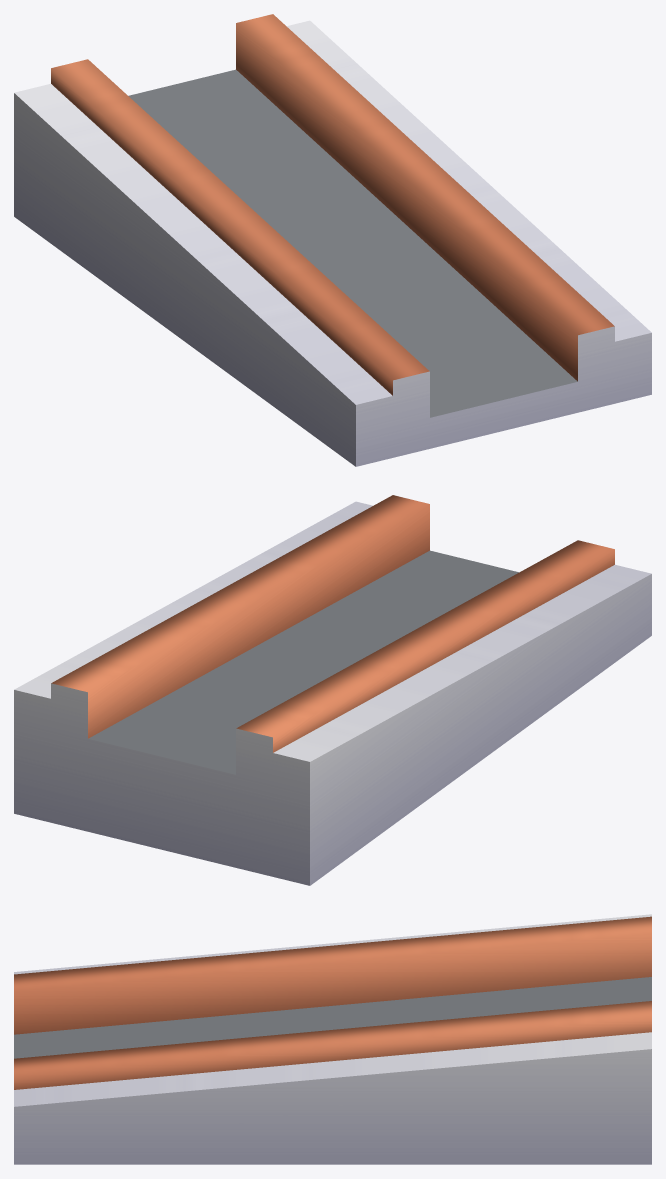
Rendered from snow-tile-river-slope-large.gltf.
The picture shows the model from 3 angles, top to bottom: view 1: azimuth 30°, elevation 25°; view 2: azimuth 150°, elevation 25°; view 3: azimuth 270°, elevation 25°; orthographic projection. The views are drawn at different scales.
Parts seen in each view (by area): view 1: snow-tile-river-slope-large; view 2: snow-tile-river-slope-large; view 3: snow-tile-river-slope-large.
Boxes of the visible parts, x1=… form: snow-tile-river-slope-large: x1=14, y1=14, x2=651, y2=466; snow-tile-river-slope-large: x1=14, y1=495, x2=651, y2=885; snow-tile-river-slope-large: x1=14, y1=914, x2=651, y2=1164.
Size of the model in its own units: 1 by 0.45 by 2.
1 material, 1 textured.
